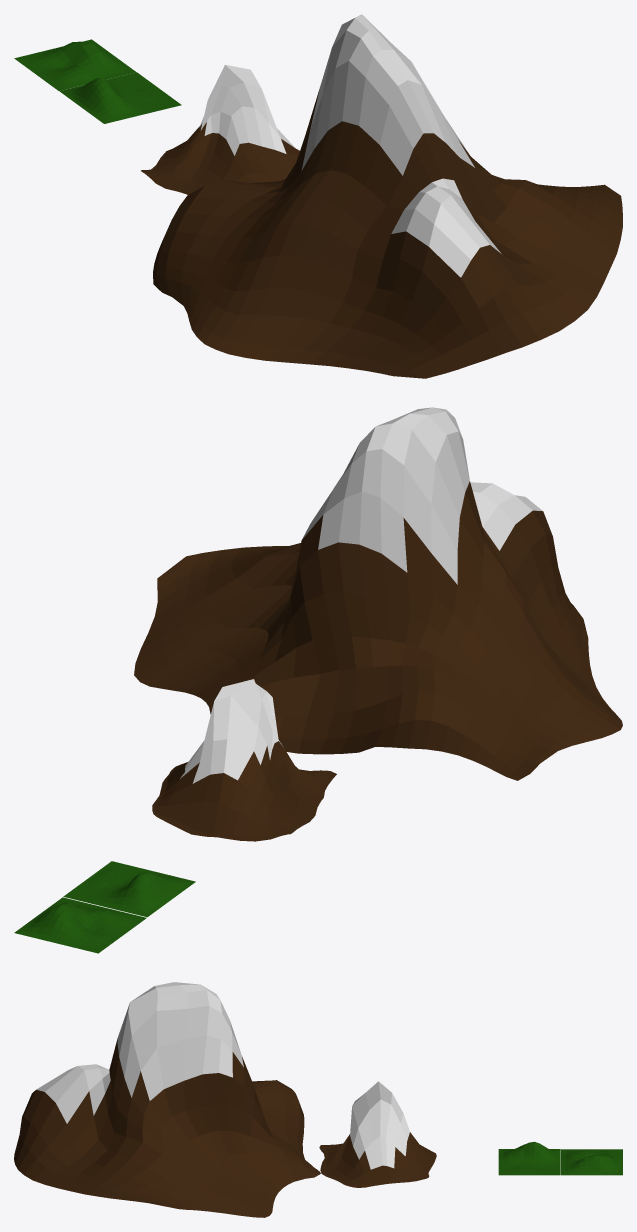
Rendered from Fields.FBX.
The picture shows the model from 3 angles, top to bottom: view 1: azimuth 30°, elevation 25°; view 2: azimuth 150°, elevation 25°; view 3: azimuth 270°, elevation 25°; orthographic projection. The views are drawn at different scales.
Parts seen in each view (by area): view 1: Mountain010, Mountain009, Mountain1, Mountain; view 2: Mountain010, Mountain009, Mountain, Mountain1; view 3: Mountain010, Mountain009, Mountain1, Mountain.
Boxes of the visible parts, x1,y1,x2,y2 form: Mountain010: (153,14,622,378); Mountain009: (141,64,299,194); Mountain1: (59,72,181,123); Mountain: (14,39,136,90); Mountain010: (134,407,622,780); Mountain009: (152,679,336,841); Mountain: (14,897,146,953); Mountain1: (63,861,195,917); Mountain010: (14,982,320,1217); Mountain009: (319,1081,436,1187); Mountain1: (498,1141,560,1175); Mountain: (561,1149,622,1175).
Size of the model in its own units: 5549 by 3419 by 10249.
